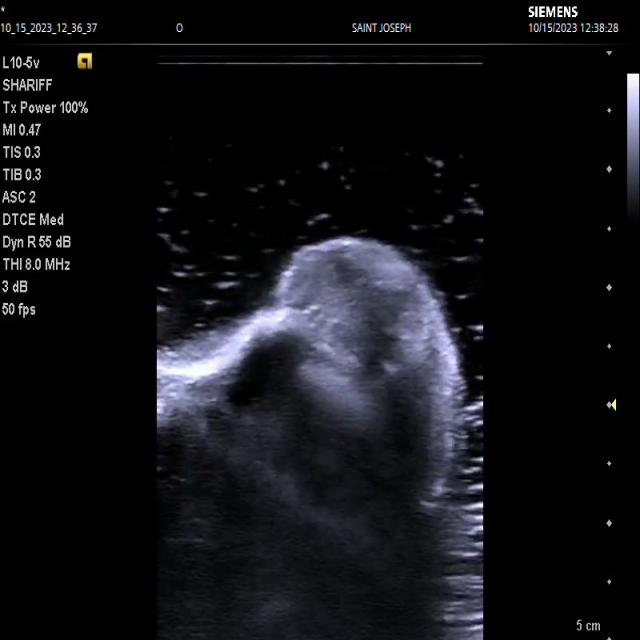tissue: (157, 238, 463, 640)
